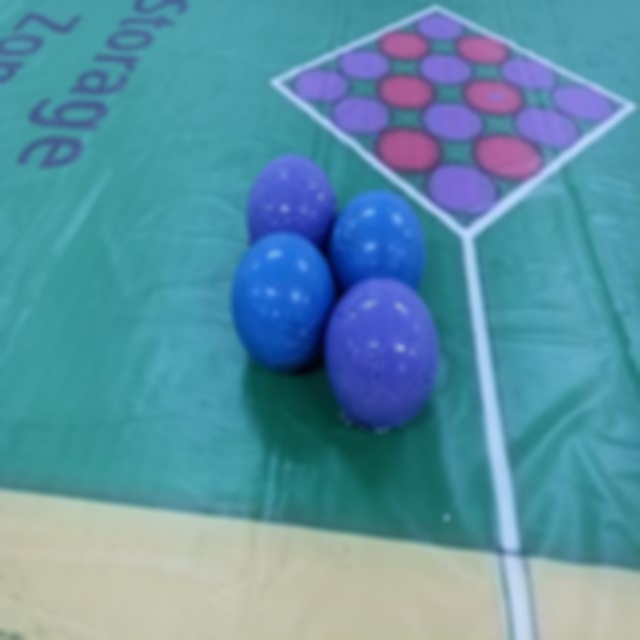blue_ball: (232, 232, 328, 371), (331, 192, 428, 284)
purple_ball: (326, 281, 439, 427), (248, 156, 336, 237)
